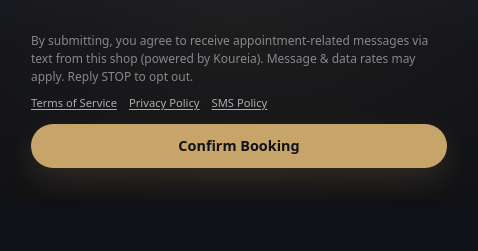
Test: RequestRenderer after-hours submit flow › validates policyAccepted before after-hours submission
Step 1. Click the button "Confirm Booking" → (239, 146), box [31,124,447,168]
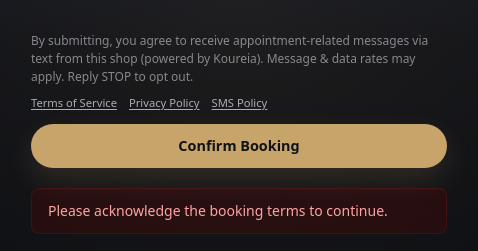
Check: the text "Please acknowledge the booking terms to continue." is shown, box [31,188,447,234]
